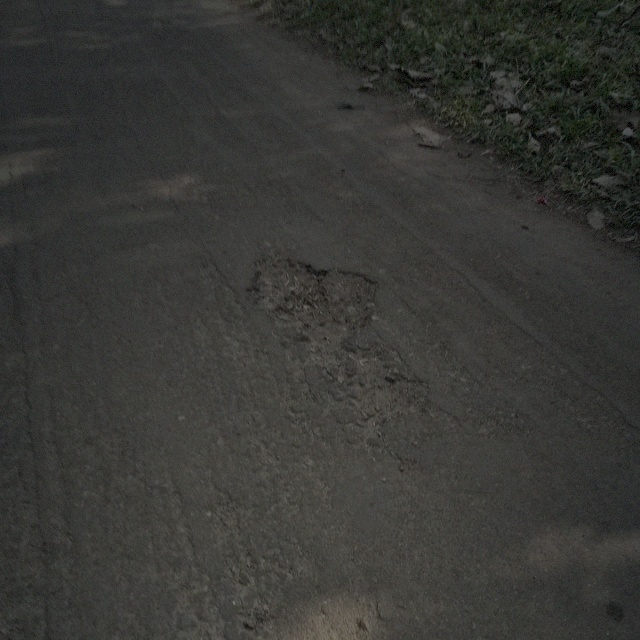pothole: (242, 252, 389, 343), (345, 343, 435, 437)
